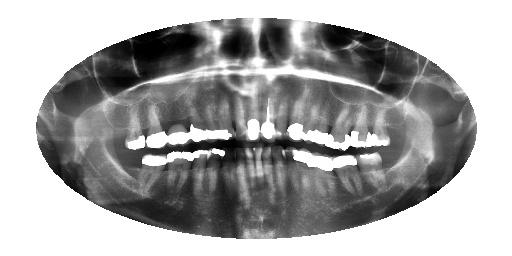Fillings: (167, 151, 195, 192), (138, 153, 167, 192), (313, 151, 337, 198), (335, 155, 361, 197), (326, 107, 351, 149), (124, 107, 147, 150), (191, 149, 212, 195), (146, 104, 167, 149), (350, 107, 373, 148), (208, 146, 227, 194), (166, 112, 192, 145), (372, 107, 393, 146), (297, 145, 313, 193), (191, 104, 210, 143), (310, 101, 327, 143), (247, 98, 261, 142), (288, 102, 303, 140), (208, 107, 219, 141)
Implant: (261, 96, 277, 142)
